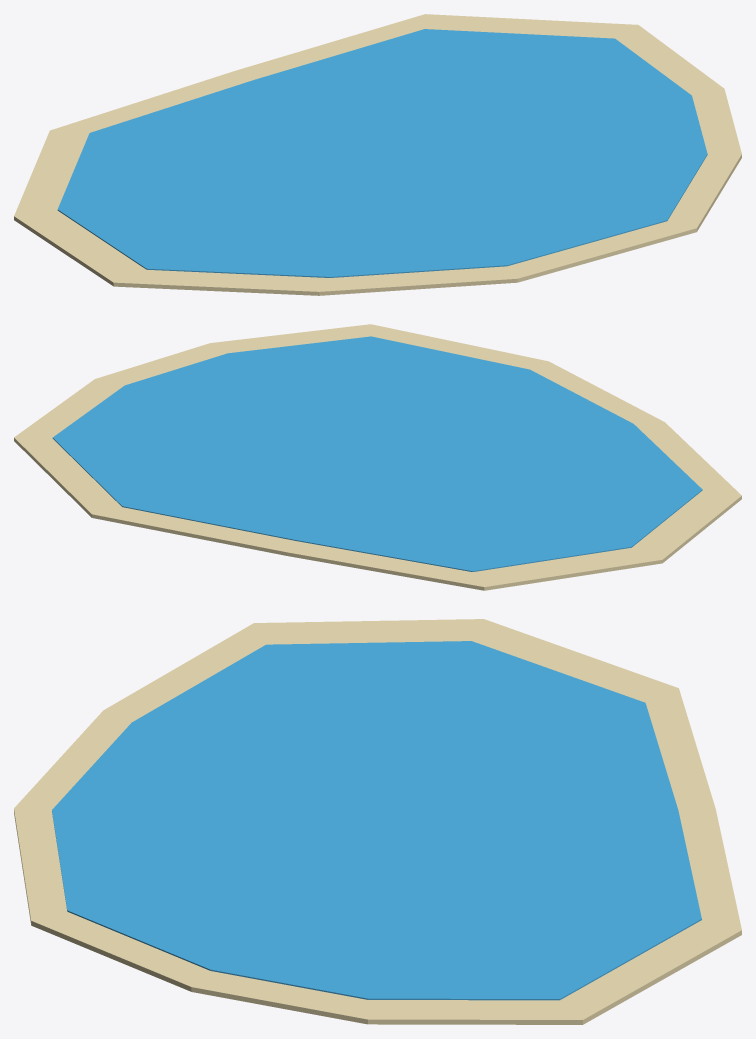
File: lago.glb
3 views of the same model, one above another, from view 1: azimuth 30°, elevation 25°; view 2: azimuth 150°, elevation 25°; view 3: azimuth 270°, elevation 25° (orthographic). The views are drawn at different scales.
Parts seen in each view (by area): view 1: agua, orilla; view 2: agua, orilla; view 3: agua, orilla.
Part boxes in pixels (x1,y1,x2,y2): agua: (57,29,707,277); orilla: (14,14,741,295); agua: (52,336,702,571); orilla: (14,324,741,590); agua: (52,641,701,1000); orilla: (14,619,741,1024).
Size of the model in its own units: 14 by 0.101 by 10.74.
